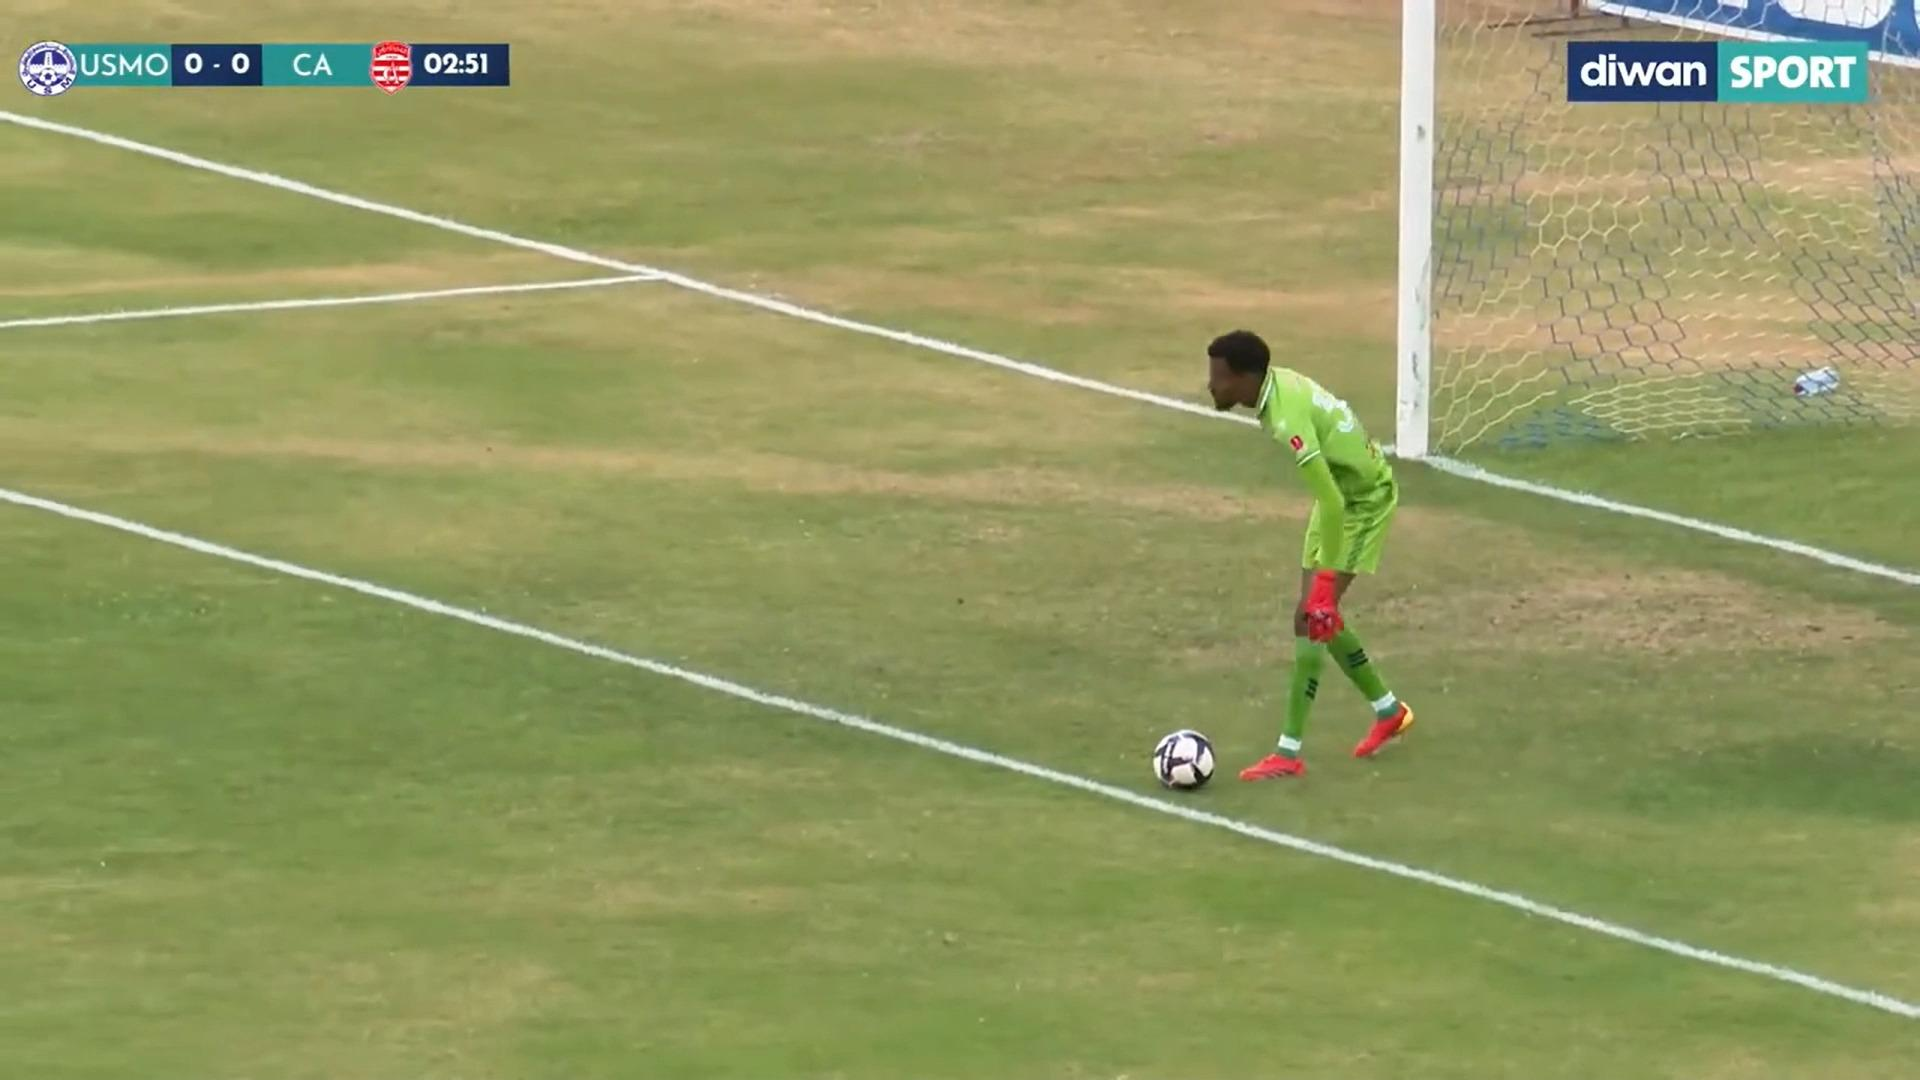ball: (1130, 709, 1232, 810)
goalkeeper: (1179, 307, 1447, 844)
